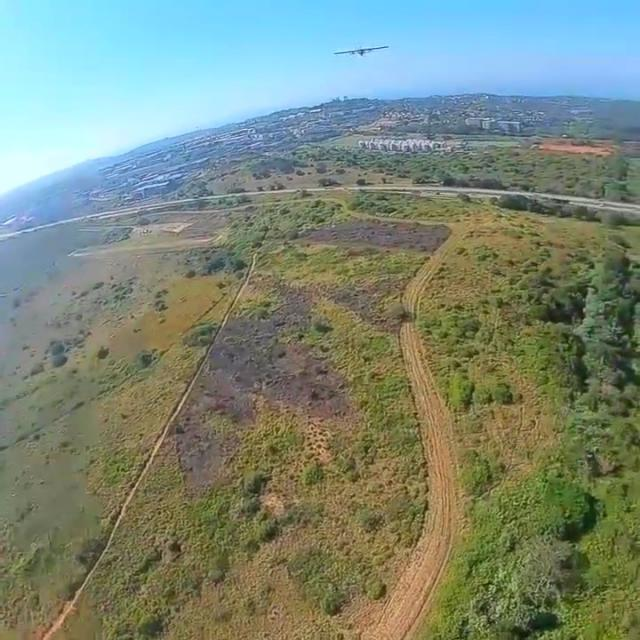iha: (330, 33, 391, 70)
